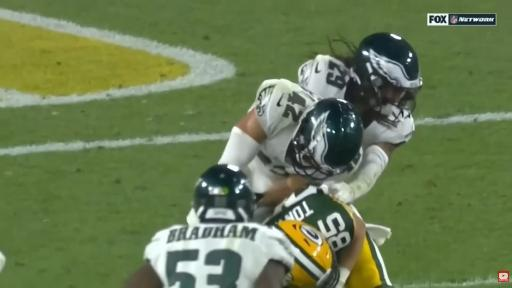Helmet: (287, 98, 363, 179), (353, 33, 422, 110), (276, 221, 339, 287), (194, 165, 255, 222)
Jersey: (144, 223, 294, 287), (250, 79, 321, 187), (266, 186, 355, 251), (363, 105, 414, 148)
Player: (299, 33, 422, 202), (126, 165, 294, 287), (219, 79, 363, 206), (266, 186, 391, 287), (275, 220, 342, 287)
